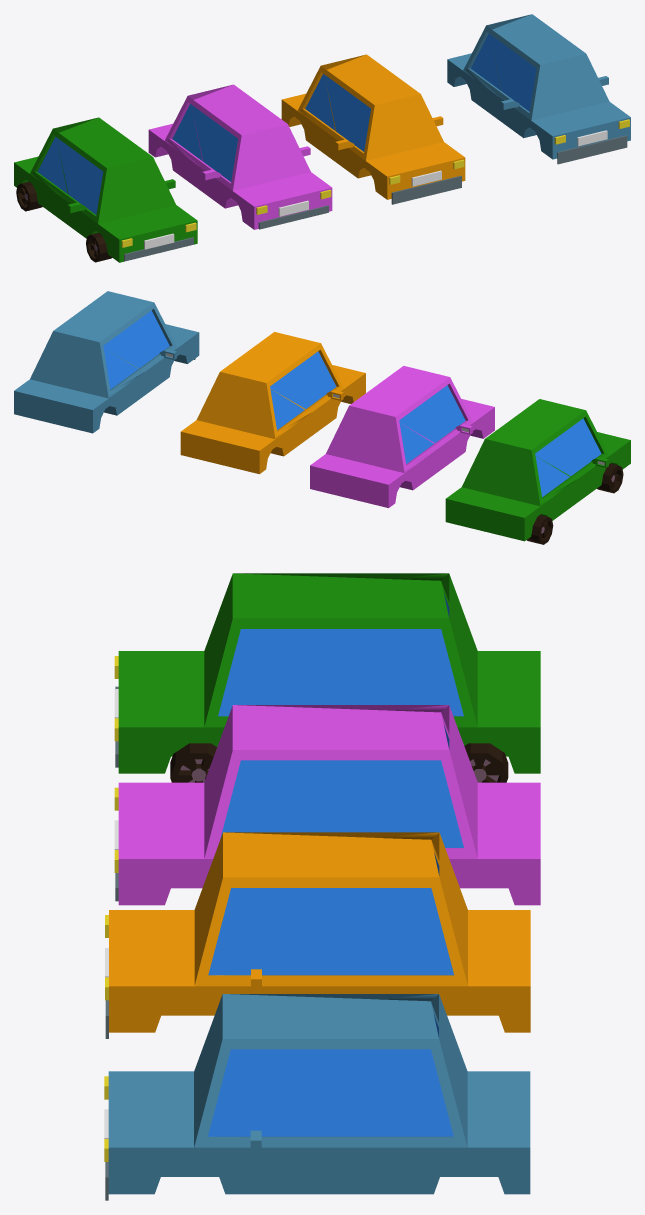
File: simple-low-poly-car.gltf
3 views of the same model, one above another, from view 1: azimuth 30°, elevation 25°; view 2: azimuth 150°, elevation 25°; view 3: azimuth 270°, elevation 25° (orthographic). The views are drawn at different scales.
Parts seen in each view (by area): view 1: orange-chassis, blue-chassis, pink-chassis, green-chassis, back-right-tire, front-right-tire; view 2: blue-chassis, pink-chassis, orange-chassis, green-chassis, back-right-tire, front-right-tire; view 3: blue-chassis, orange-chassis, pink-chassis, green-chassis, front-left-tire, back-left-tire.
Part boxes in pixels (x1,y1,x2,y2): orange-chassis: (281,54,465,204); blue-chassis: (447,14,630,164); pink-chassis: (148,84,332,229); green-chassis: (14,117,197,262); back-right-tire: (16,181,42,211); front-right-tire: (86,232,112,262); blue-chassis: (14,291,199,433); pink-chassis: (310,366,494,508); orange-chassis: (180,332,365,474); green-chassis: (445,399,630,541); back-right-tire: (526,515,553,544); front-right-tire: (597,463,623,493); blue-chassis: (104,994,530,1200); orange-chassis: (105,832,530,1038); pink-chassis: (114,705,540,905); green-chassis: (114,573,540,773); front-left-tire: (170,743,216,782); back-left-tire: (464,743,508,782).
Bounding box in the file's own units: 13.29 × 1.93 × 4.68.
Materials: 1 (1 with a texture image).
